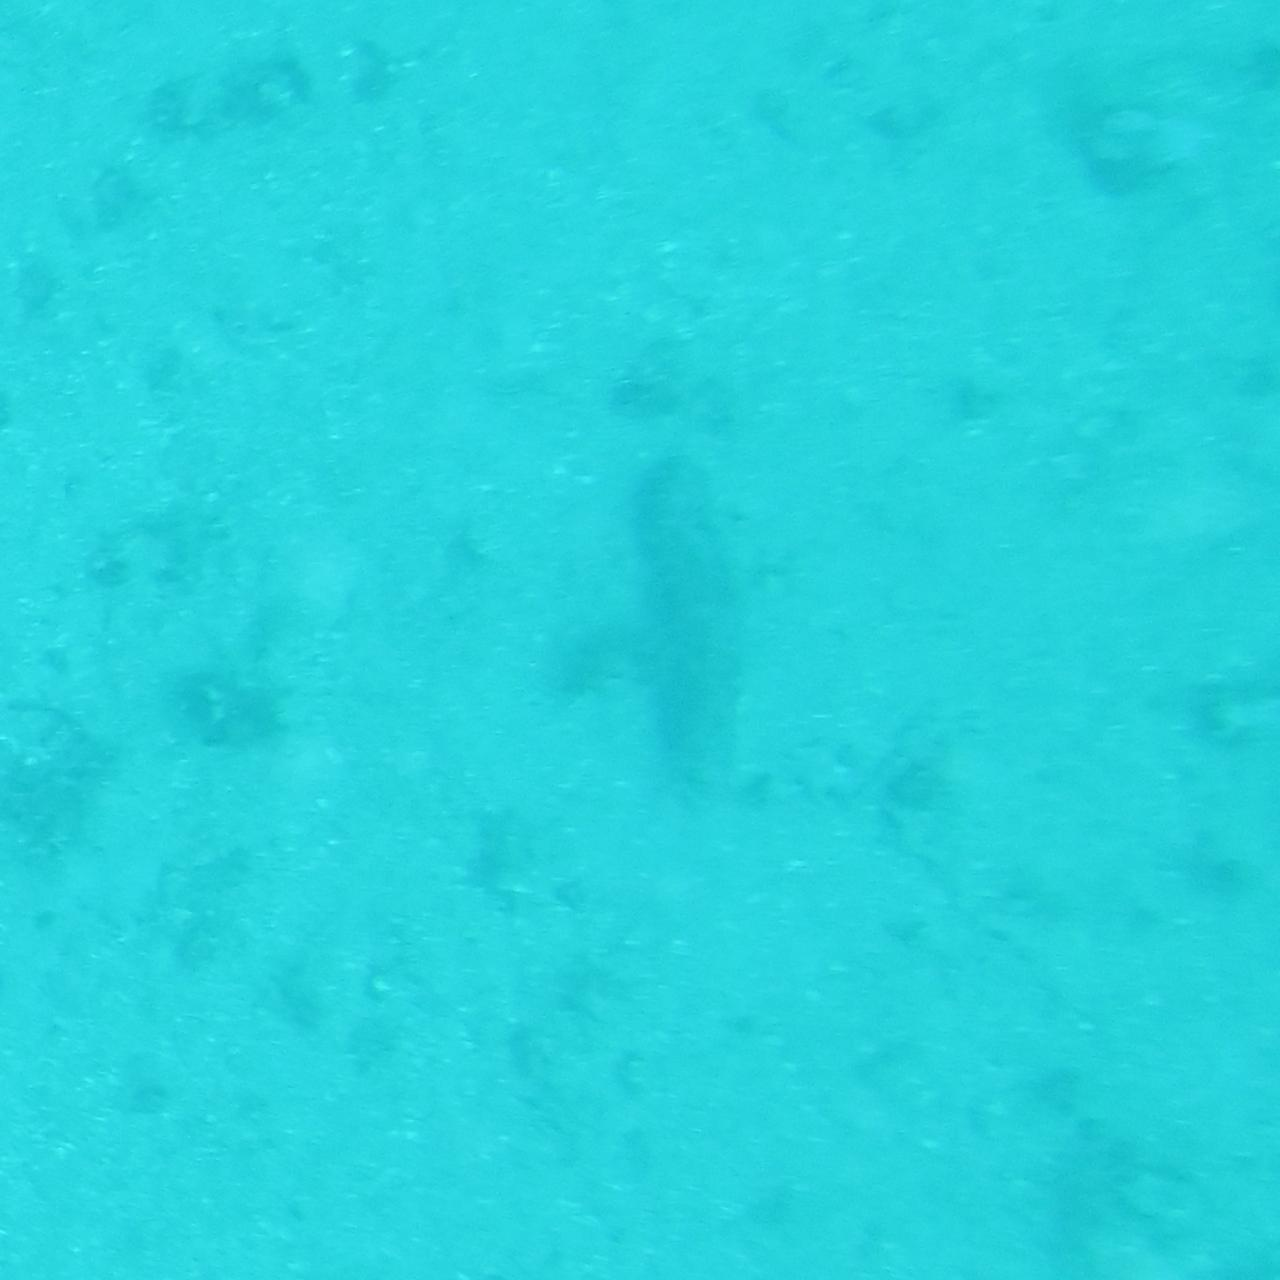Holothuria tubulosa: (634, 456, 762, 824)
